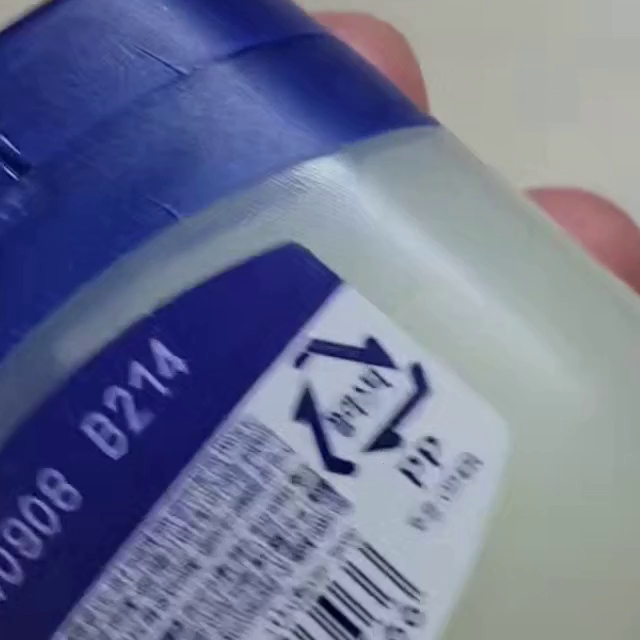Plastic: (291, 335, 434, 477)
